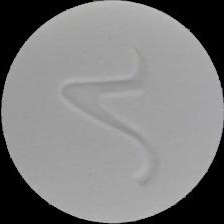64205-214: (0, 0, 224, 224)
